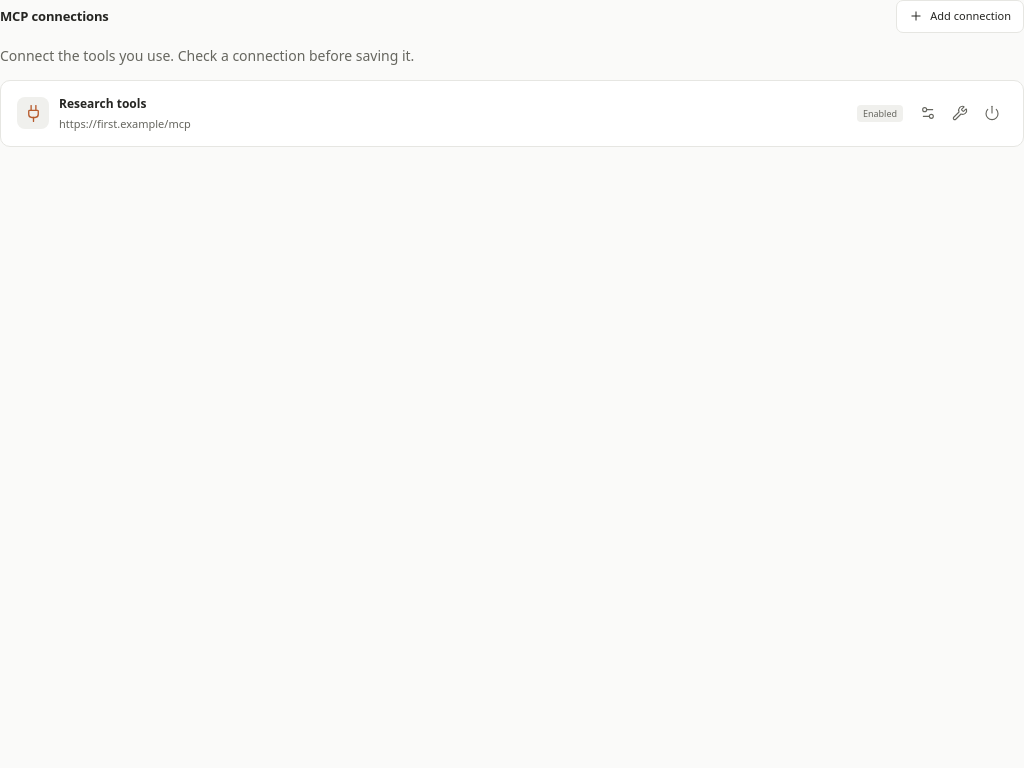
MCP setup lifecycle › canceling an explicit save stops verification and leaves the newer editor untouched
Click the button named "Configure Research tools": (928, 113) x1=913 y1=98 x2=943 y2=128
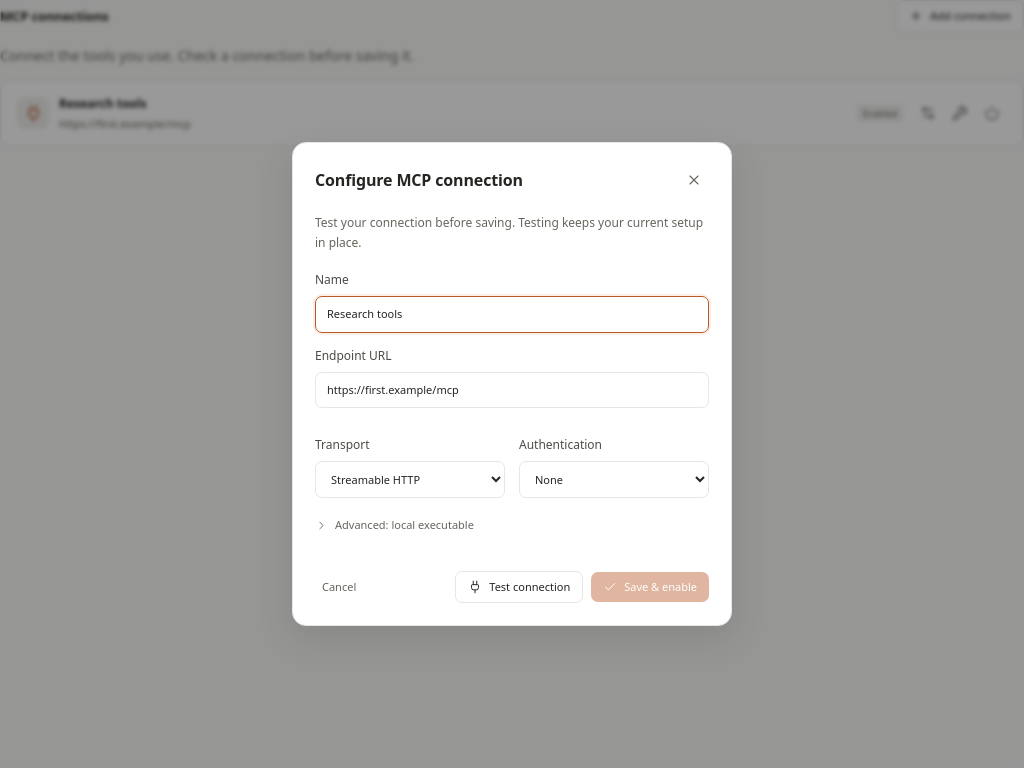
Click the button "Test connection": (519, 587) x1=455 y1=571 x2=583 y2=603
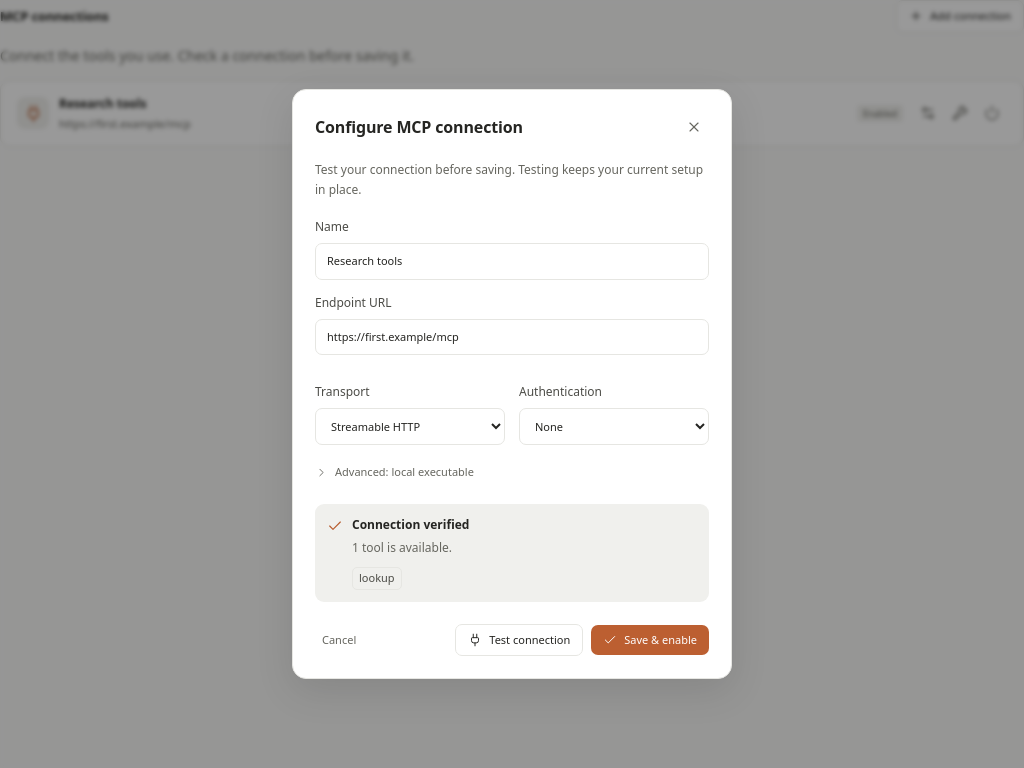
Expected: the text "Connection verified" is shown, x1=352 y1=516 x2=469 y2=533
Click the button "Save & enable": (650, 640) x1=591 y1=625 x2=709 y2=655
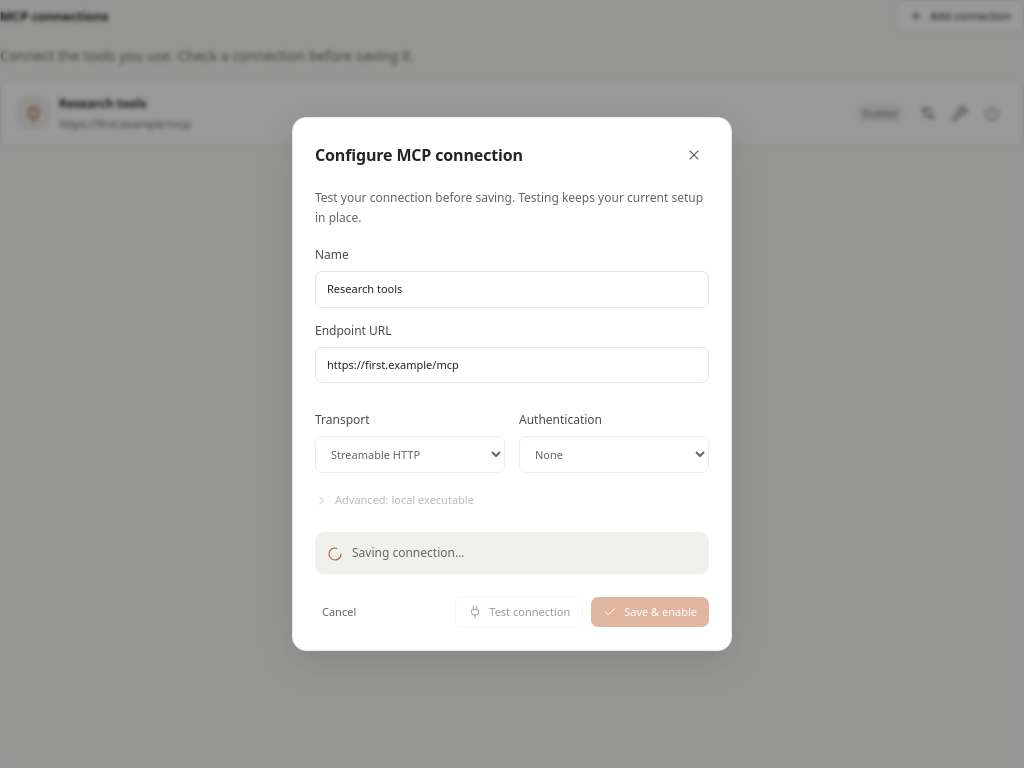
Click the button "Cancel": (339, 612) x1=315 y1=599 x2=363 y2=625
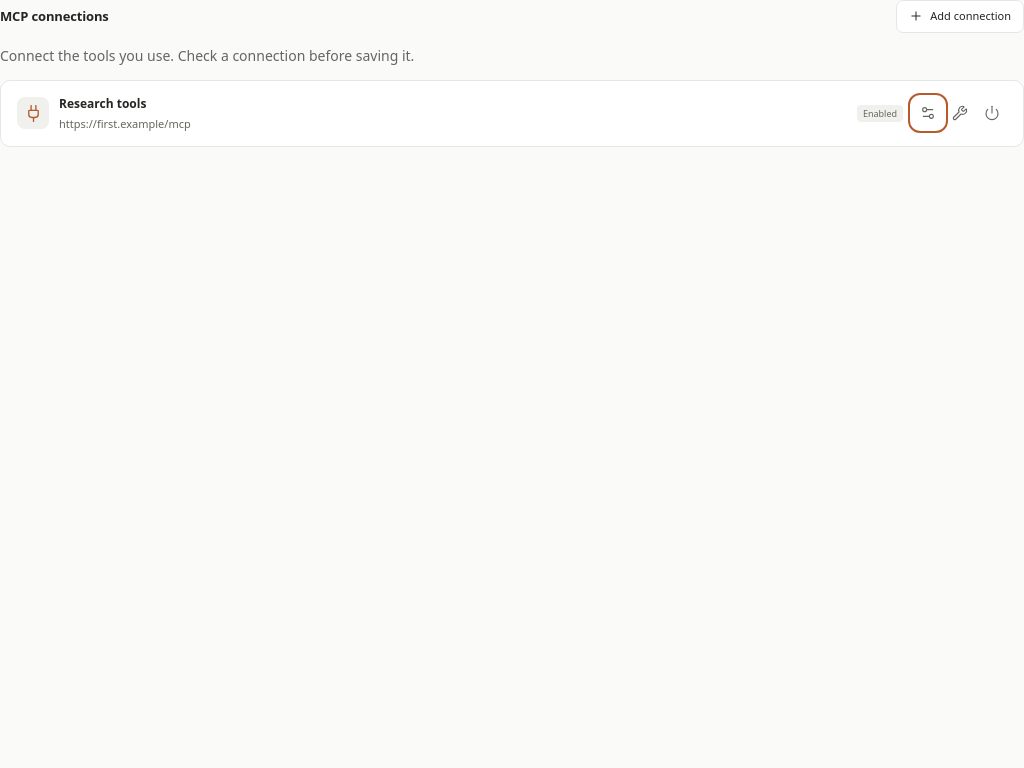
Click the button "Add connection": (960, 16) x1=896 y1=0 x2=1023 y2=32
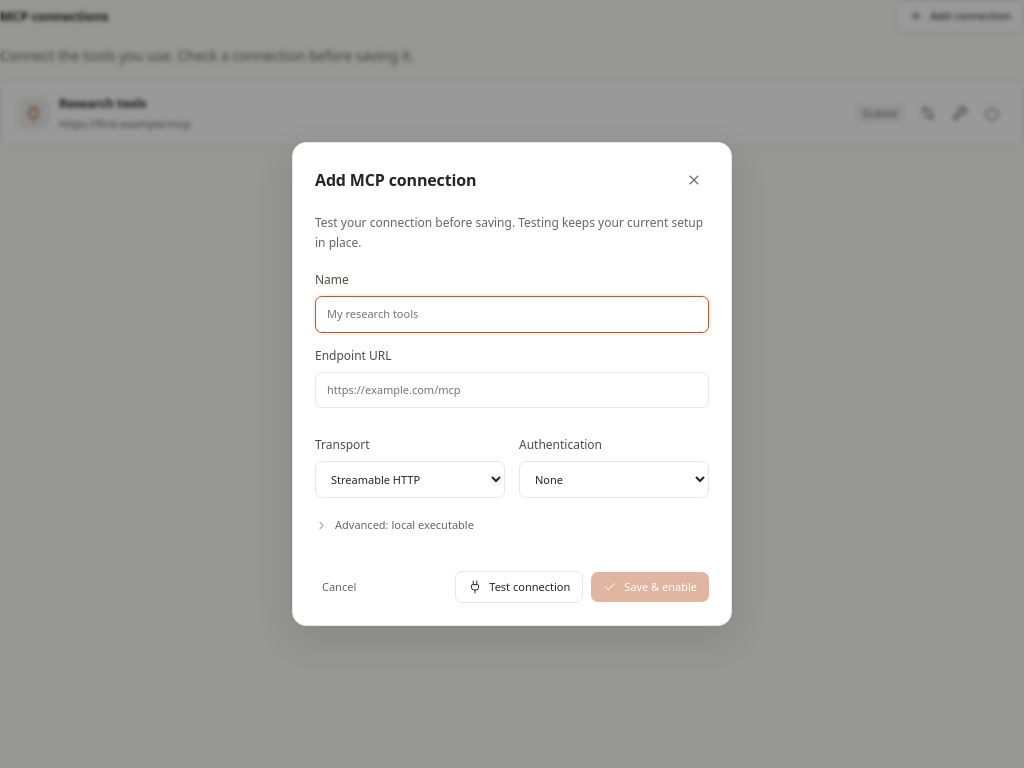
Expected: the dialog "Add MCP connection" is shown, x1=292 y1=142 x2=732 y2=626
